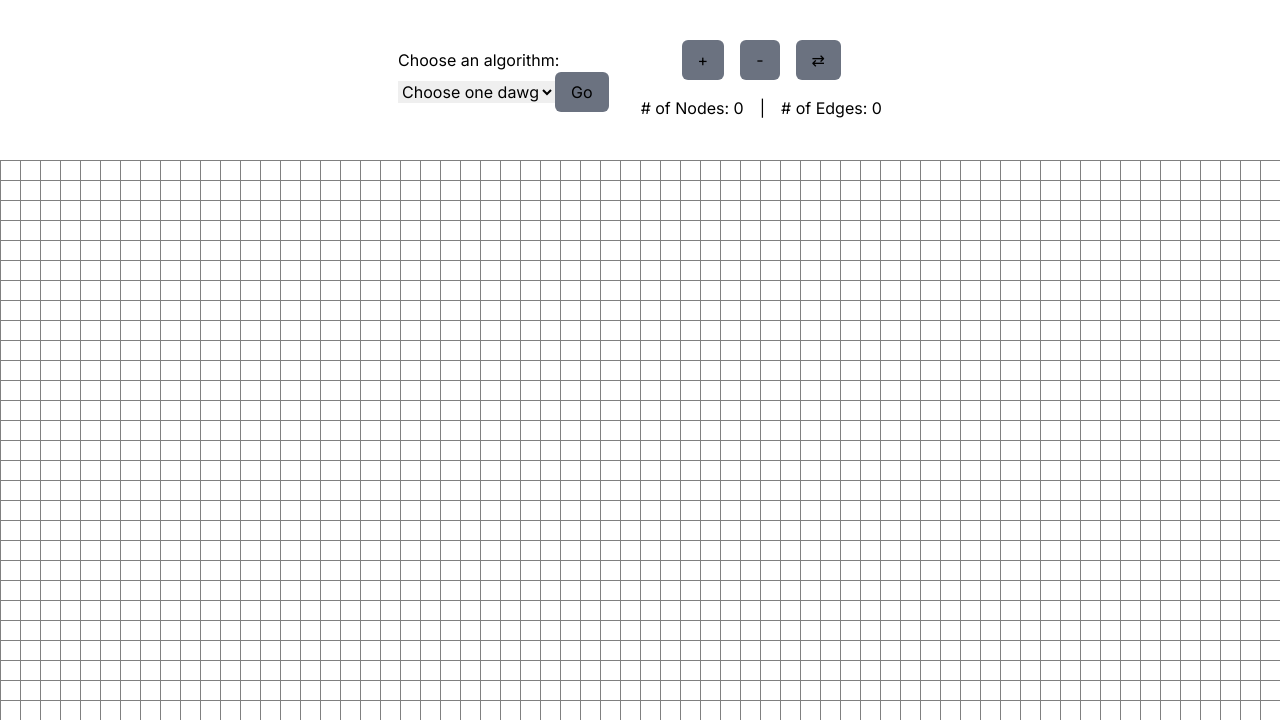
Test: Home Component › Adds a node when the add button is clicked
Click the button "+" at (703, 60), box x1=682 y1=40 x2=724 y2=80
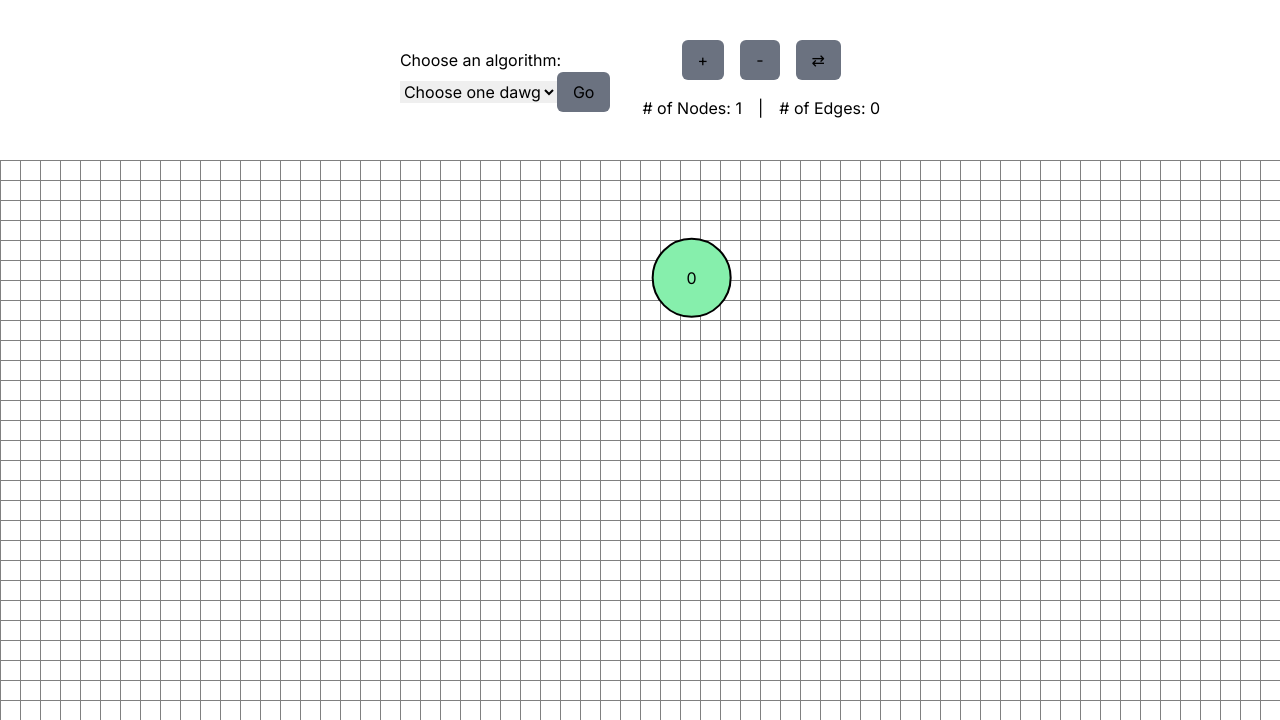
expect the heading "# of Nodes: 1" is shown: met, box x1=642 y1=96 x2=742 y2=120
